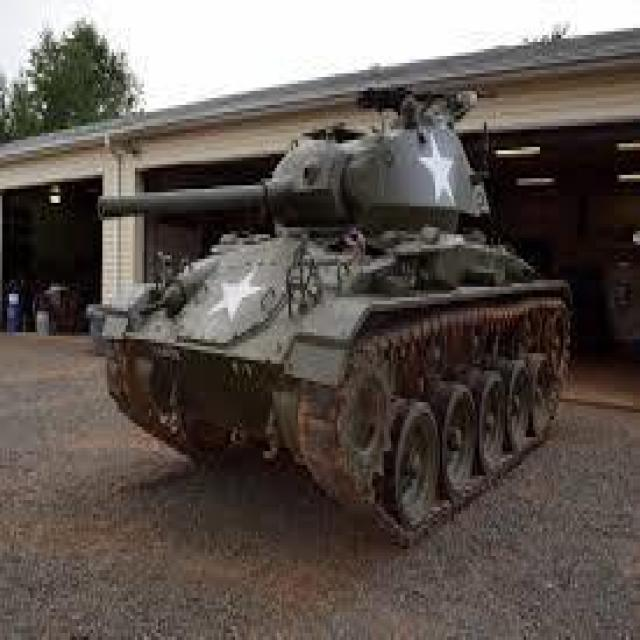Tanks: (106, 28, 597, 553)
